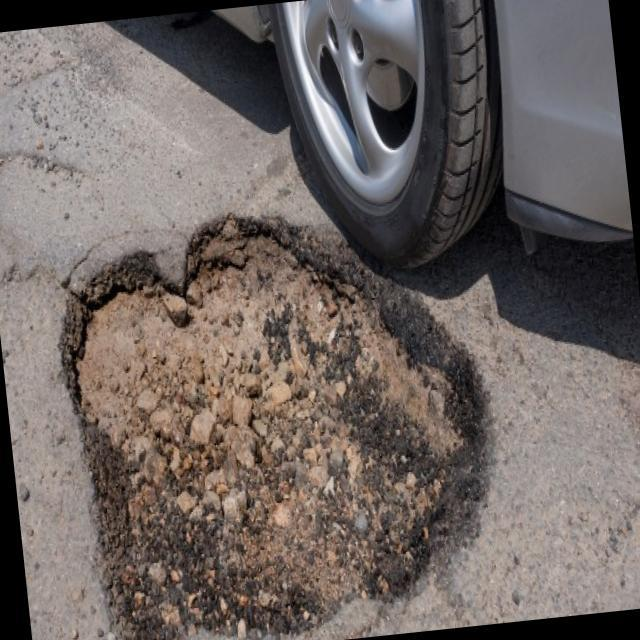Pothole: (50, 179, 505, 640)
